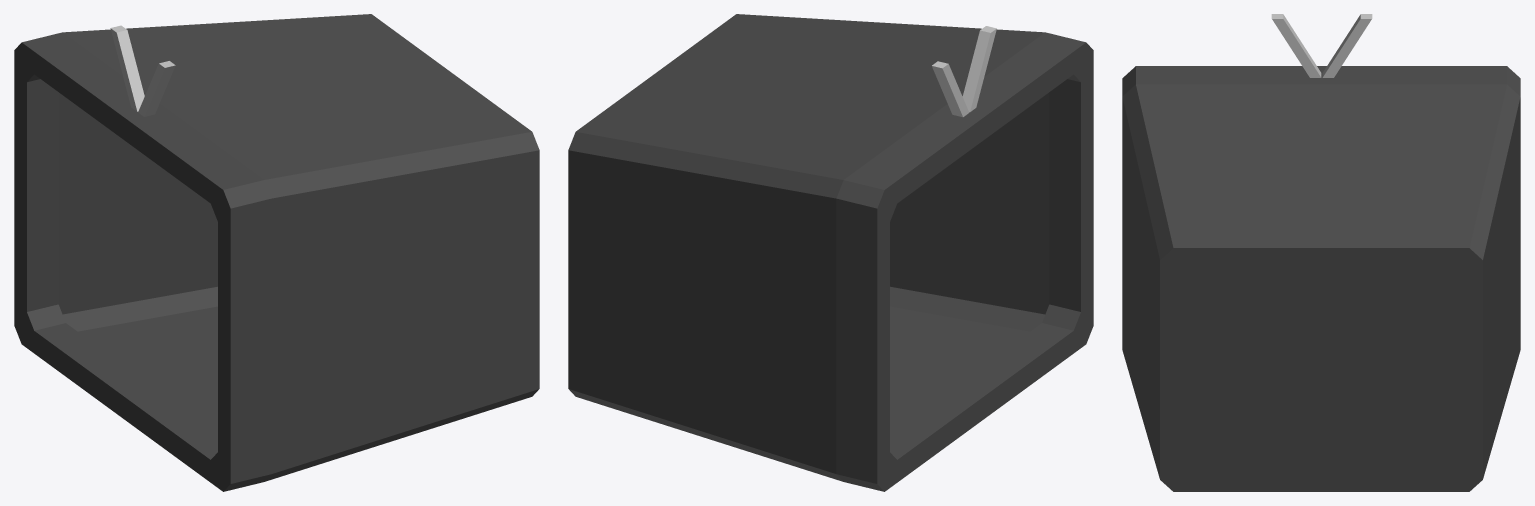
Rendered from TVTemplo.fbx.
3 renders of one model, left to right at view 1: azimuth 30°, elevation 25°; view 2: azimuth 150°, elevation 25°; view 3: azimuth 270°, elevation 25°, orthographic. The views are drawn at different scales.
Parts seen in each view (by area): view 1: TV; view 2: TV; view 3: TV.
Part boxes in pixels (box(x1,y1,x2,y2)): TV: box(14, 14, 539, 491); TV: box(568, 14, 1093, 491); TV: box(1122, 14, 1520, 491).
Size of the model in its own units: 228 by 243 by 260.
